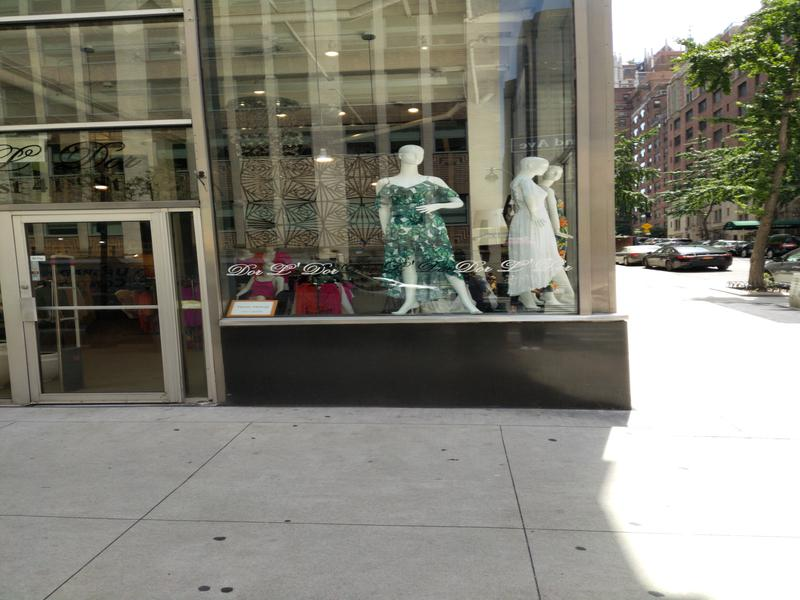door: (5, 209, 186, 406)
